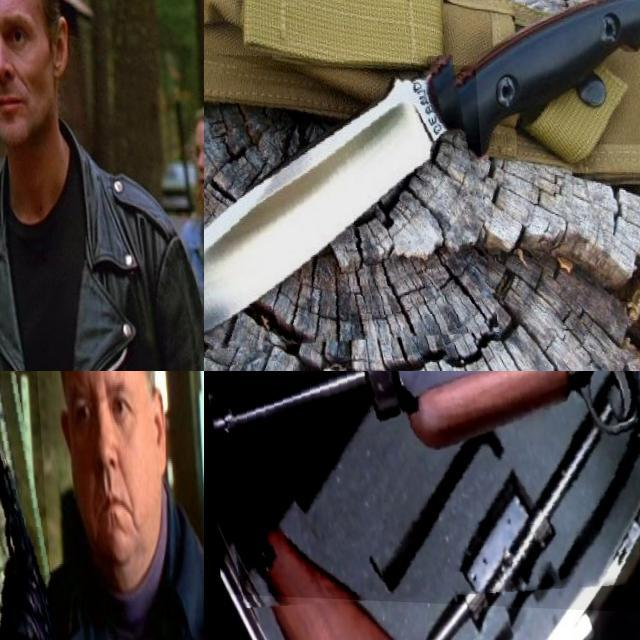-: (204, 47, 487, 358)
gun-knife-thesis - v11 Yolov5 augmented: (204, 371, 640, 612), (0, 85, 117, 312), (0, 371, 58, 640)
